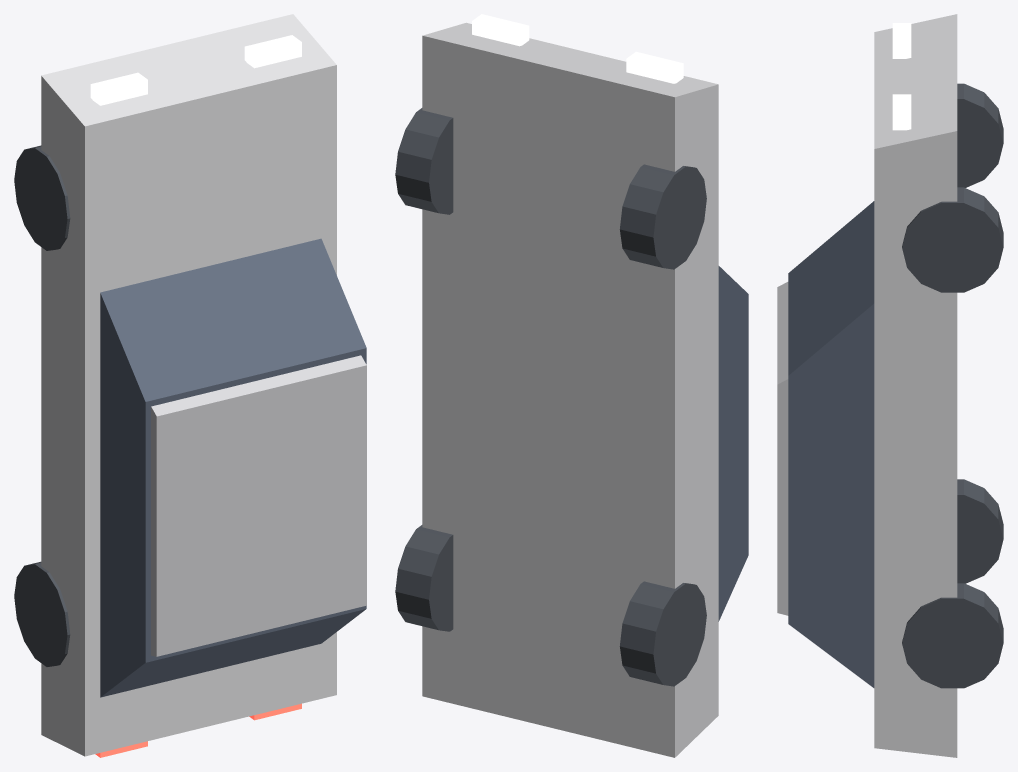
File: car.glb
3 renders of one model, left to right at view 1: azimuth 30°, elevation 25°; view 2: azimuth 150°, elevation 25°; view 3: azimuth 270°, elevation 25°, orthographic. The views are drawn at different scales.
Parts seen in each view (by area): view 1: geometry_0, geometry_2, geometry_1, geometry_3, geometry_4, geometry_7, geometry_9; view 2: geometry_0, geometry_1, geometry_3, geometry_4, geometry_5, geometry_6, geometry_7, geometry_9; view 3: geometry_0, geometry_1, geometry_6, geometry_5, geometry_2, geometry_3, geometry_4, geometry_9, geometry_7.
Part boxes in pixels (left/top/right/bottom): geometry_0: left=41, top=14, right=336, bottom=756; geometry_2: left=151, top=355, right=366, bottom=656; geometry_1: left=100, top=238, right=366, bottom=697; geometry_3: left=14, top=145, right=70, bottom=250; geometry_4: left=14, top=561, right=70, bottom=666; geometry_7: left=90, top=72, right=147, bottom=105; geometry_9: left=244, top=35, right=301, bottom=68; geometry_0: left=422, top=22, right=718, bottom=757; geometry_1: left=718, top=266, right=748, bottom=621; geometry_3: left=619, top=164, right=706, bottom=269; geometry_4: left=619, top=581, right=706, bottom=686; geometry_5: left=395, top=108, right=453, bottom=214; geometry_6: left=395, top=525, right=453, bottom=631; geometry_7: left=626, top=51, right=683, bottom=83; geometry_9: left=472, top=14, right=529, bottom=46; geometry_0: left=874, top=14, right=957, bottom=757; geometry_1: left=788, top=201, right=874, bottom=687; geometry_6: left=902, top=583, right=1003, bottom=688; geometry_5: left=902, top=187, right=1003, bottom=292; geometry_2: left=777, top=282, right=788, bottom=615; geometry_3: left=957, top=83, right=1003, bottom=187; geometry_4: left=957, top=479, right=1003, bottom=583; geometry_9: left=892, top=94, right=911, bottom=130; geometry_7: left=892, top=23, right=911, bottom=58.
Size of the model in its own units: 1.84 by 4.55 by 1.47.
